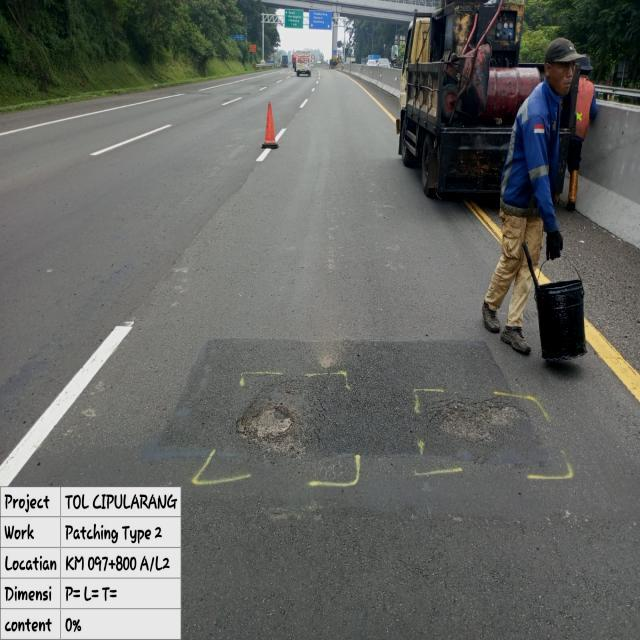Buraco: (231, 394, 314, 462), (422, 397, 532, 447)
